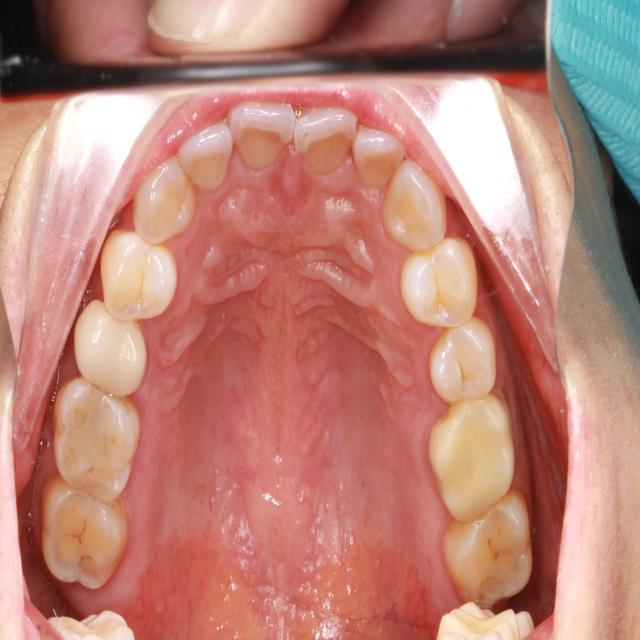tooth: (421, 385, 520, 527), (45, 368, 143, 508), (432, 484, 539, 610), (35, 467, 133, 596), (69, 295, 150, 403), (95, 226, 181, 326), (397, 234, 484, 332), (126, 147, 200, 254), (375, 153, 451, 257), (422, 314, 502, 406), (223, 90, 299, 173), (293, 96, 363, 183), (349, 115, 409, 197), (176, 122, 236, 190)
